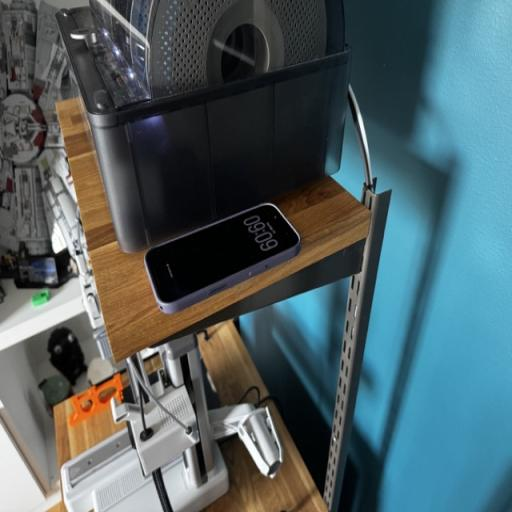phone: (149, 190, 333, 323)
